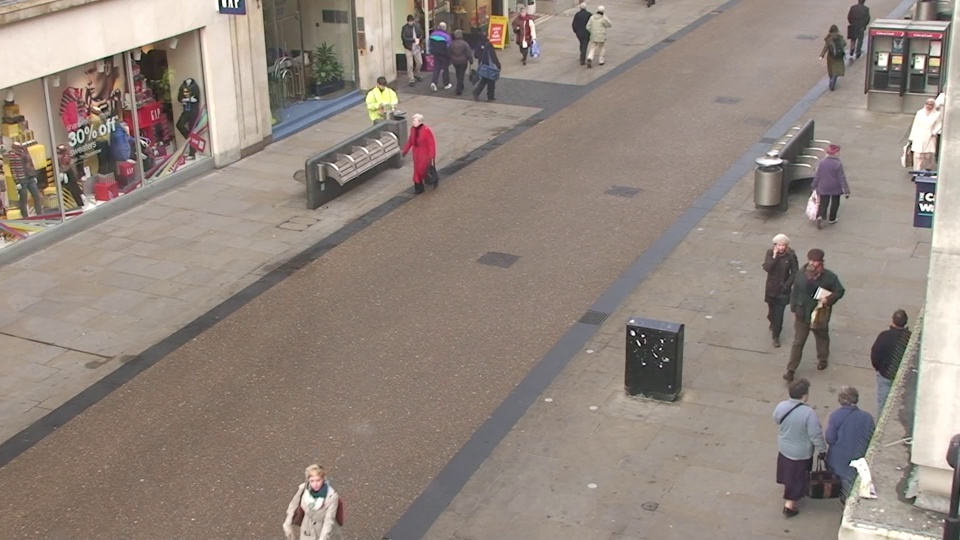pedestrian: (813, 374, 875, 540), (763, 368, 823, 532), (864, 301, 923, 448), (787, 244, 836, 374), (289, 452, 355, 540), (756, 229, 802, 355), (903, 94, 948, 188), (809, 138, 849, 241), (403, 109, 436, 203), (367, 74, 398, 157), (815, 22, 846, 95), (445, 27, 471, 98), (472, 28, 498, 99), (430, 18, 455, 86), (400, 13, 425, 79), (512, 5, 535, 70), (590, 3, 612, 67)
